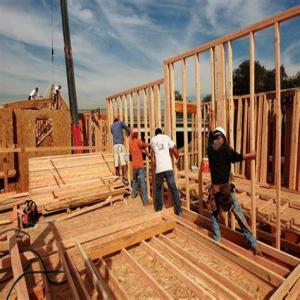red: (132, 129, 139, 140)
white: (213, 126, 228, 145)
